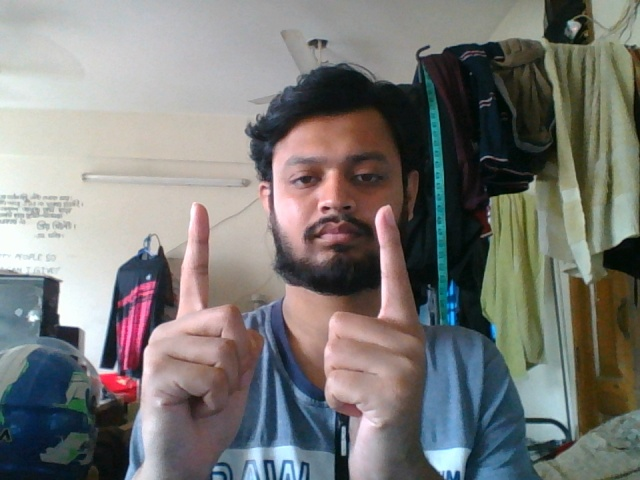ishara: (117, 199, 464, 480)
